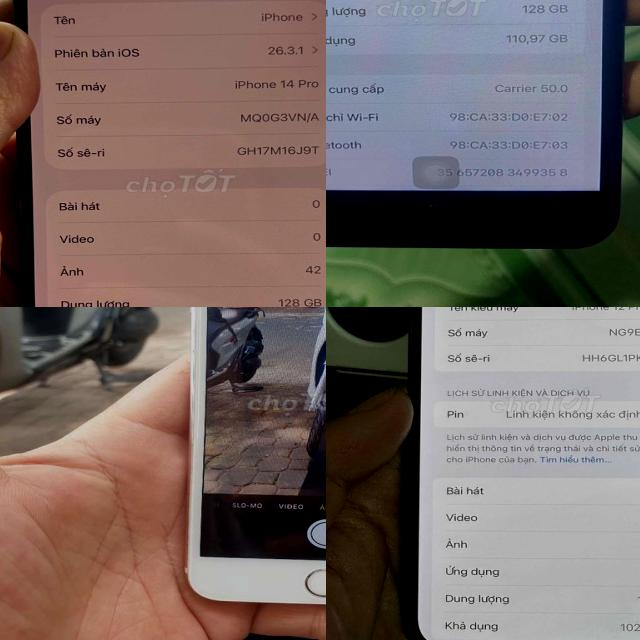gen_12_13: (389, 307, 640, 640)
gen_14: (12, 0, 326, 307)
gen_6: (181, 307, 326, 615)
gen_7_8: (326, 0, 640, 260)
scratch: (419, 194, 444, 210)
